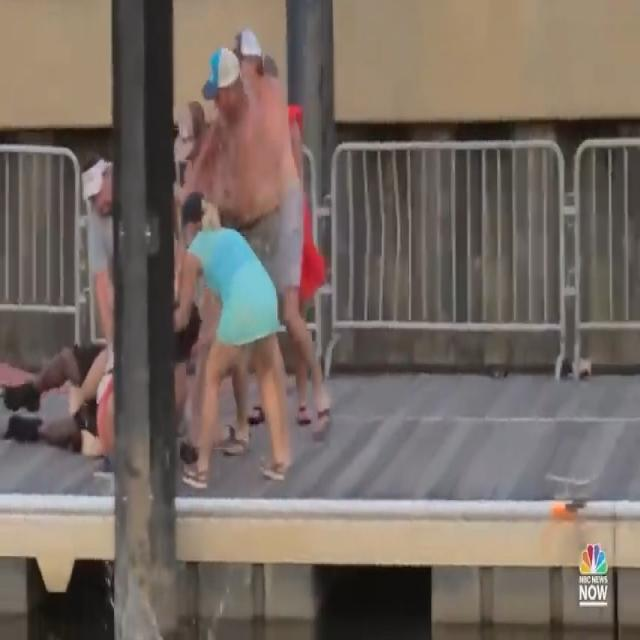fight: (0, 16, 348, 499)
